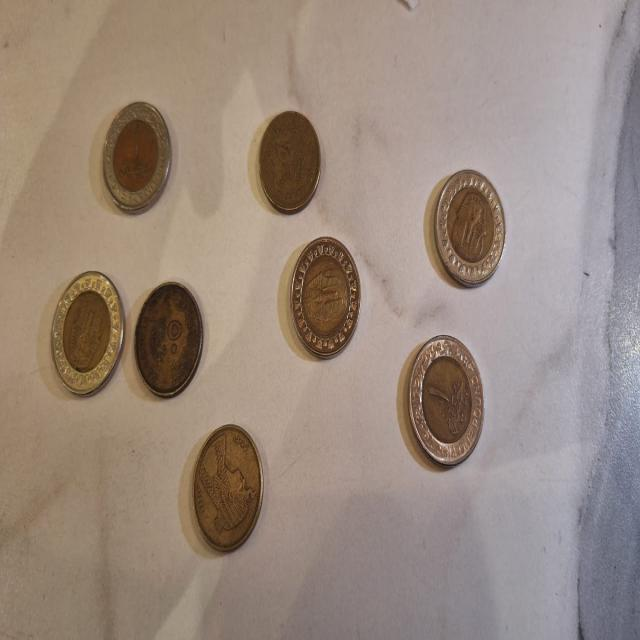Half Pound: (189, 421, 268, 554), (131, 277, 205, 407), (257, 107, 323, 216)
One Pound: (405, 332, 492, 466), (430, 164, 510, 289), (48, 265, 125, 391), (290, 229, 362, 363), (100, 99, 172, 214)
